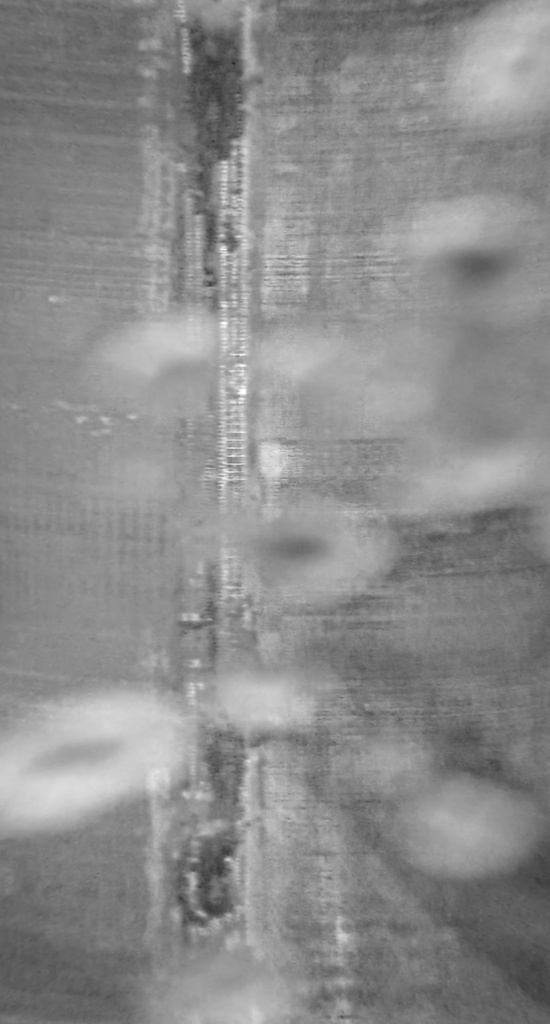splice: (163, 1, 260, 1024)
